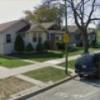cars: (74, 52, 100, 80)
